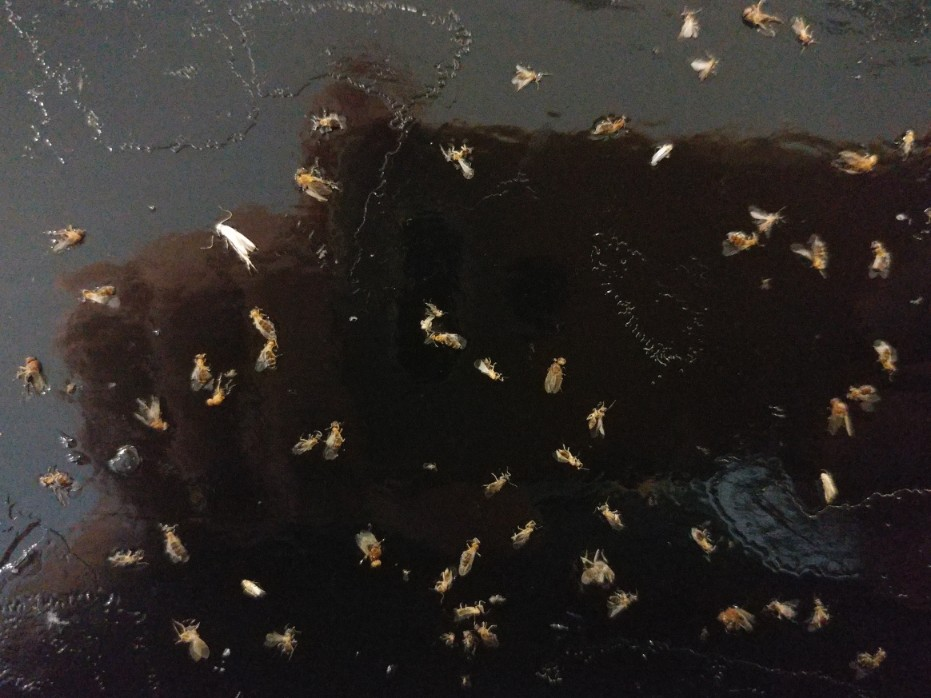house fly: (15, 351, 62, 411)
